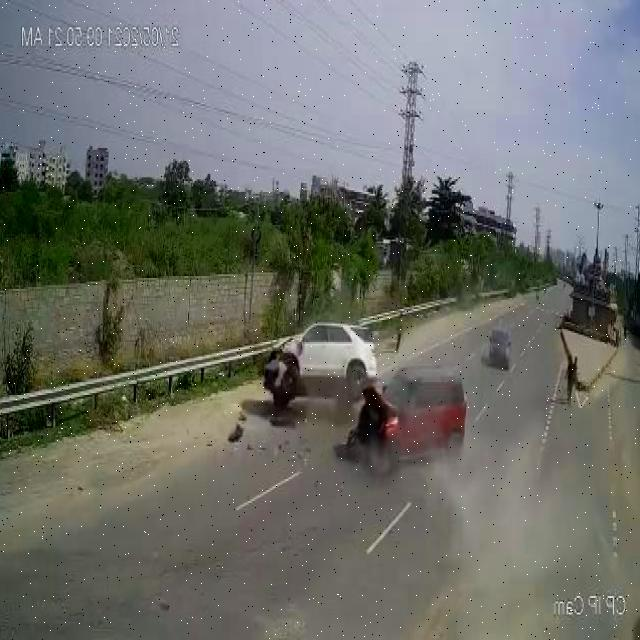accident: (227, 295, 470, 487)
